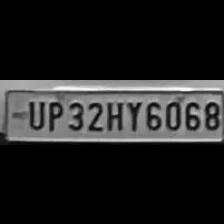0: (162, 97, 180, 130)
2: (84, 97, 104, 131)
3: (64, 97, 84, 131)
6: (142, 97, 162, 131), (182, 97, 200, 130)
8: (200, 97, 220, 130)
H: (104, 97, 124, 130)
P: (43, 97, 63, 131)
U: (23, 97, 44, 129)
Y: (124, 98, 140, 132)
